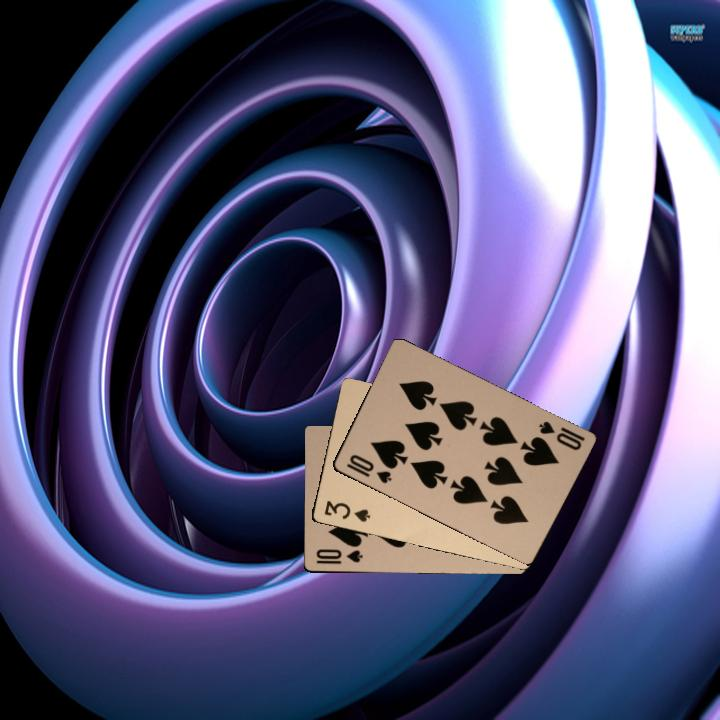10s: (342, 450, 394, 486), (535, 417, 587, 453), (312, 545, 365, 567)
3s: (320, 496, 373, 524)
